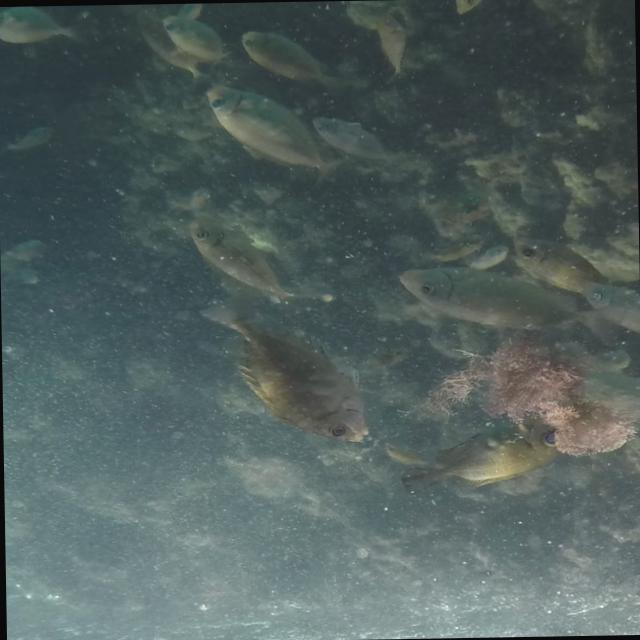Sokar Baligi: (186, 281, 387, 464)
